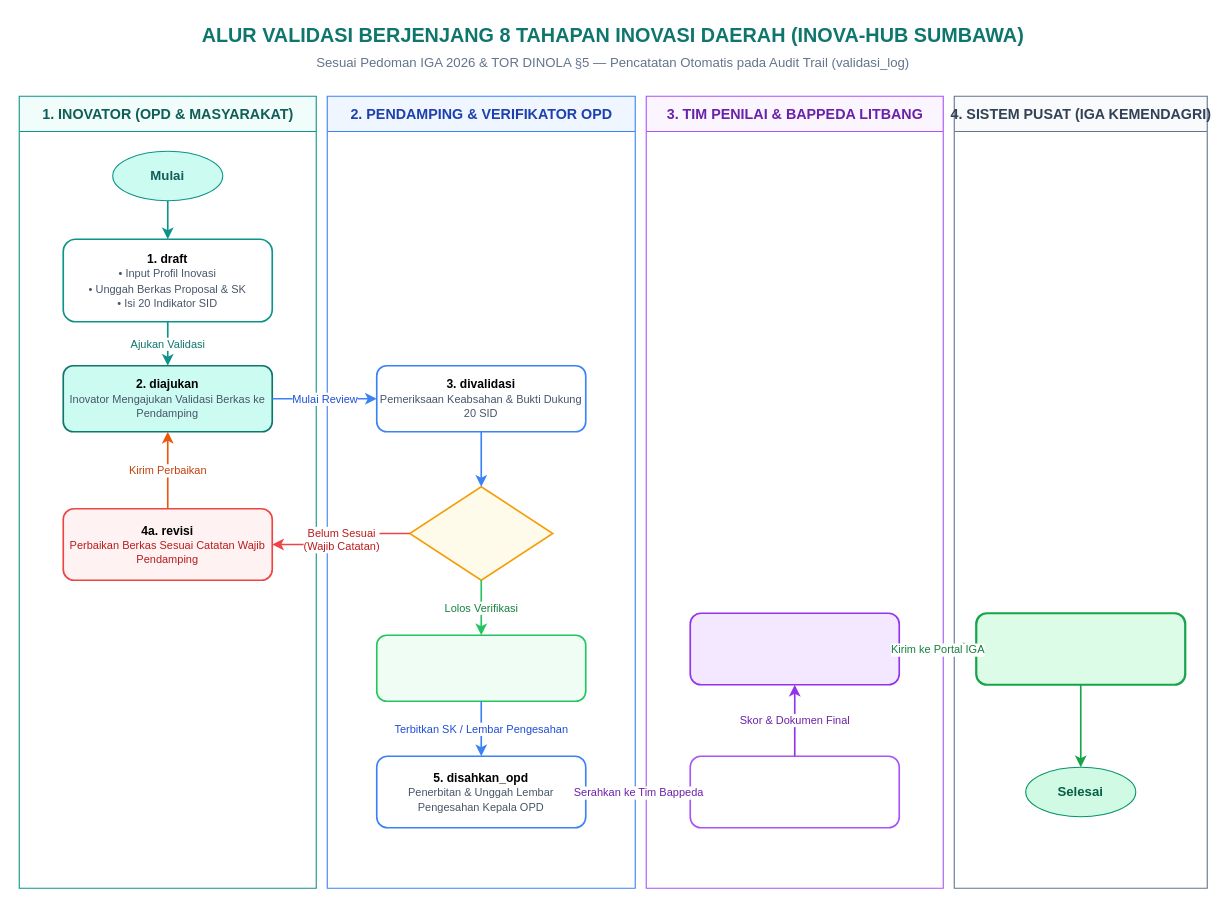
Some shapes in this 1230 by 908 pixel diagram are drawn without their labels. Here are the shapes that lost their labels. From the top down, the centre of each, then its label:
point 480,533: Berkas & Bukti Sesuai?
point 480,668: 4b. disetujui Dokumen Lolos Uji Validasi Berjenjang
point 794,648: 7. siap_kirim Finalisasi Data & Dokumen Siap Lapor ke Nasional
point 1080,648: 8. terkirim Data Tersinkronisasi ke indeks.inovasi.bskdn.kemendagri.go.id
point 794,791: 6. review_internal Sinkronisasi Skoring SID & Verifikasi Skor SPD Pemda
